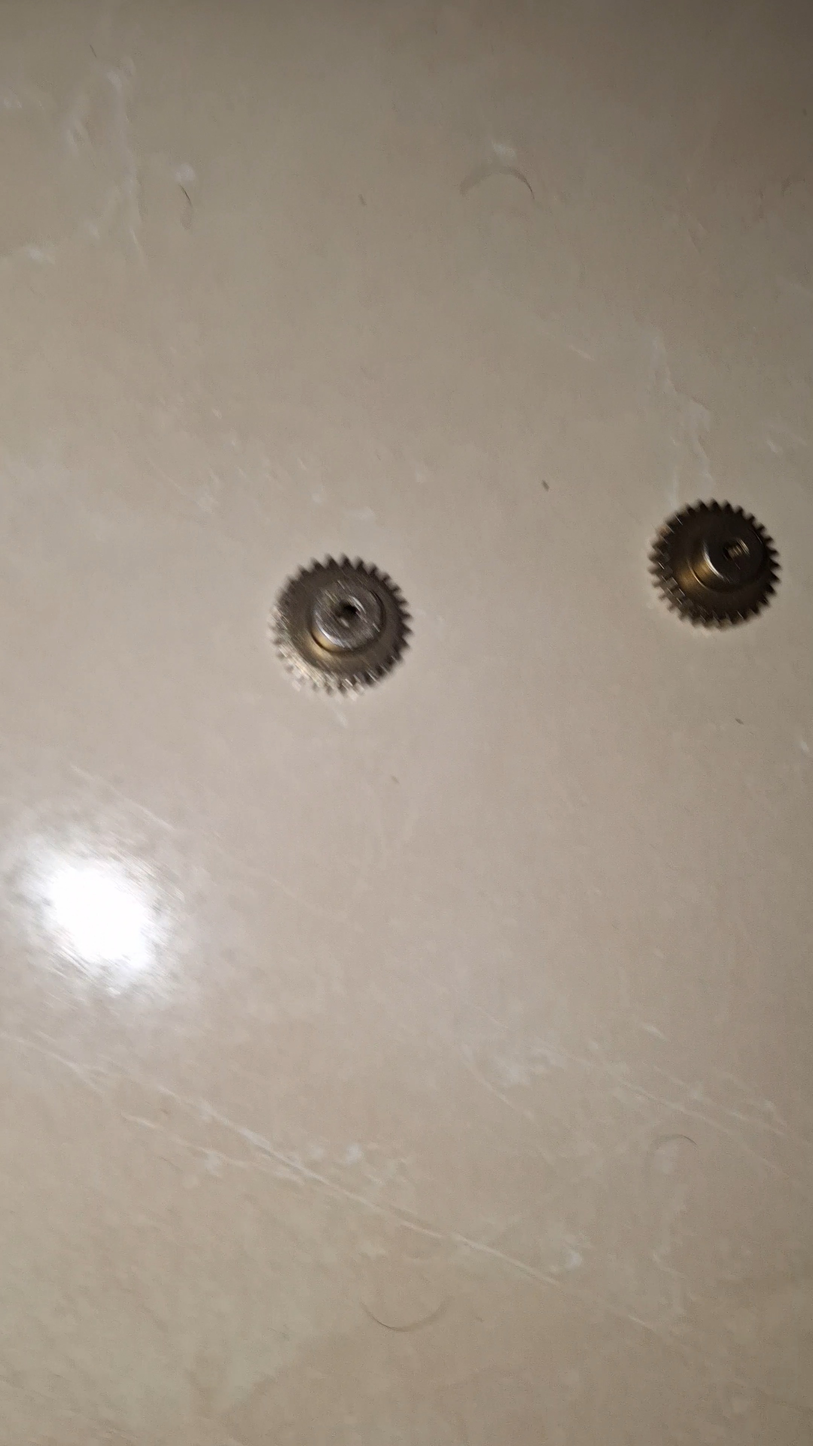spur gear: (273, 557, 410, 692), (650, 502, 778, 626)
